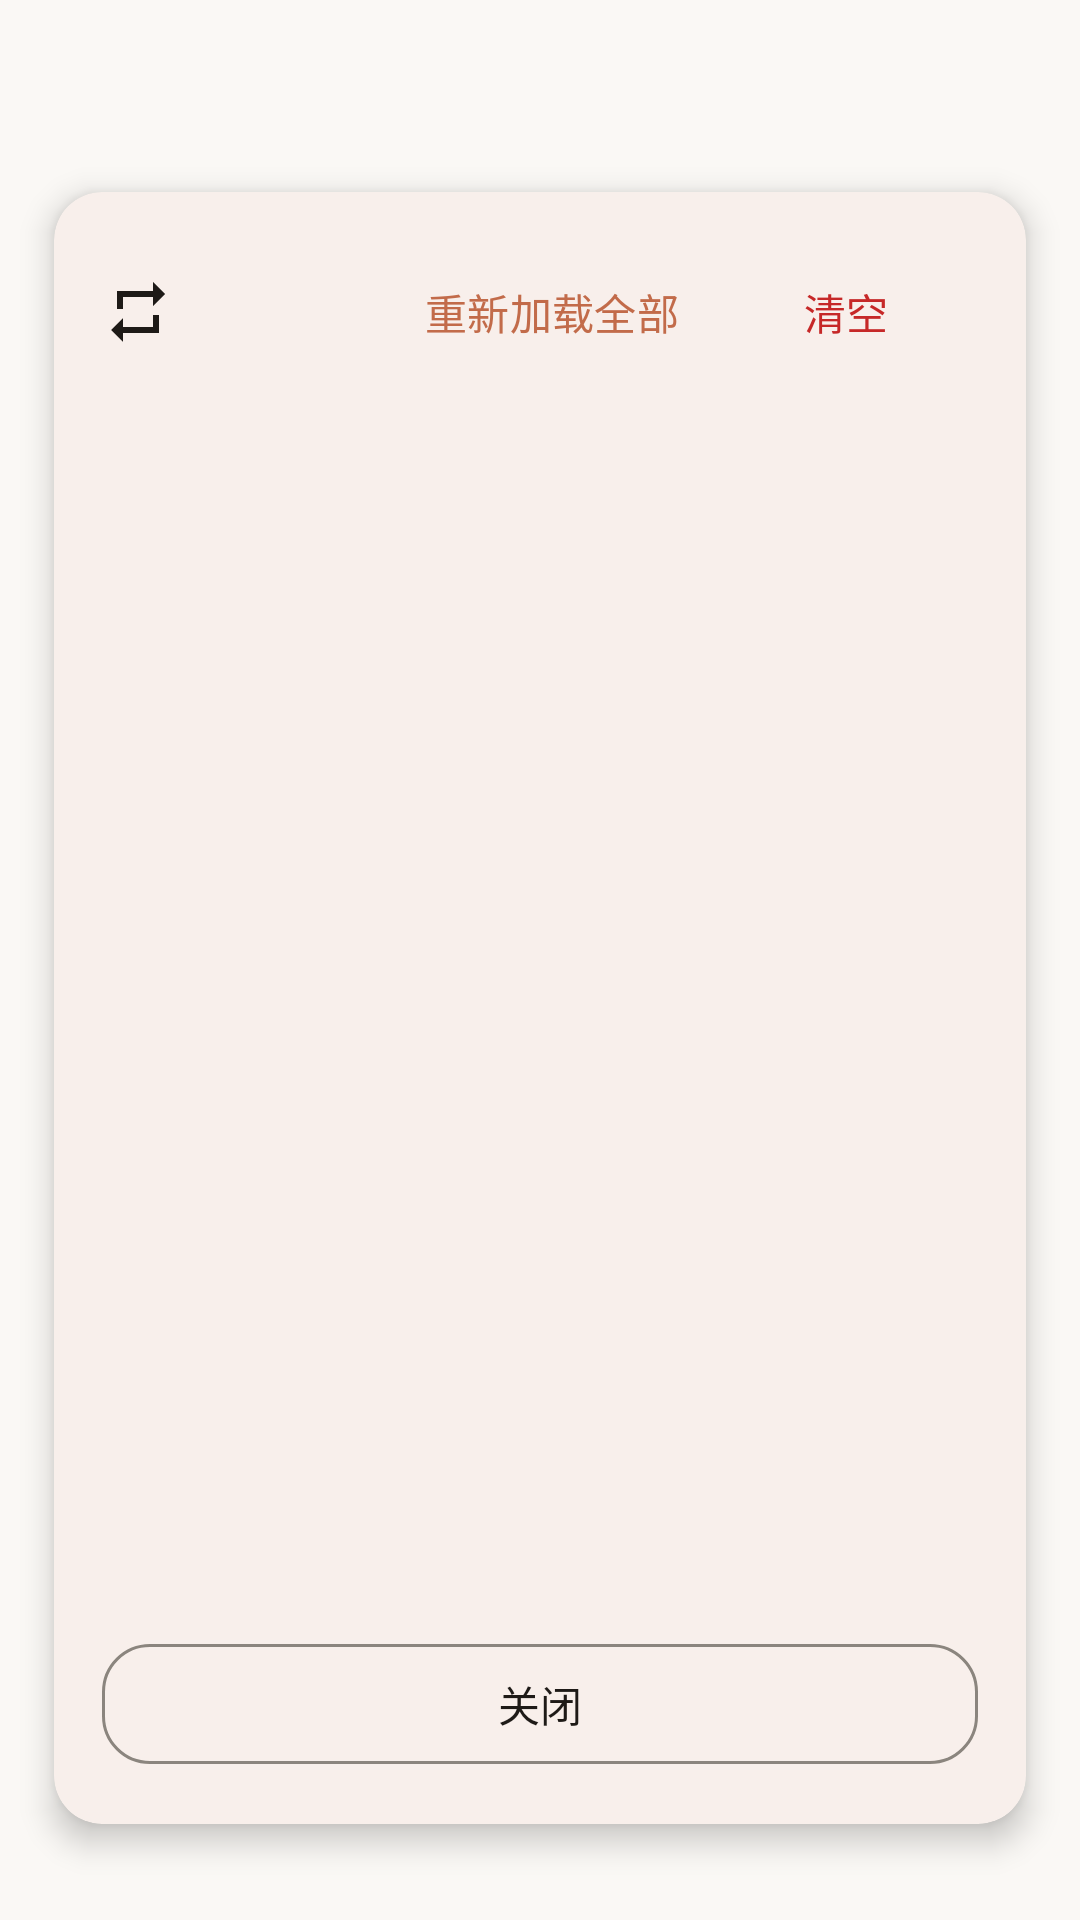

Where to tap for icons on this 1080 x 1920 app screen, as (x,y):
模式: (138,312)
